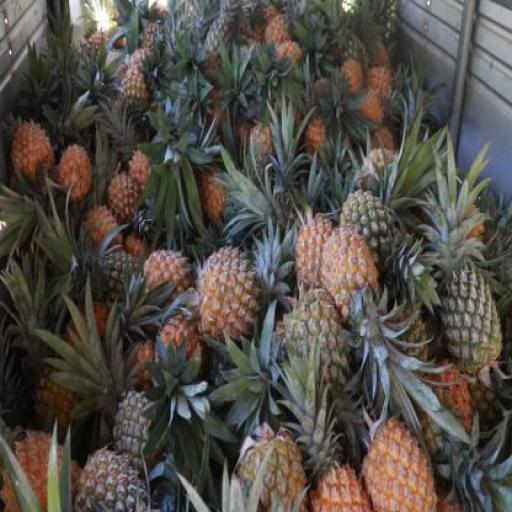------------------------------: (286, 291, 353, 390), (342, 193, 406, 292), (39, 362, 90, 436), (122, 67, 154, 126)
Pineapple - v8 v1: (368, 423, 447, 511), (8, 424, 82, 511), (324, 228, 387, 330), (201, 248, 264, 344), (298, 219, 347, 307), (160, 318, 208, 396), (146, 249, 188, 305), (16, 120, 54, 180), (62, 146, 94, 206), (111, 171, 149, 218)
